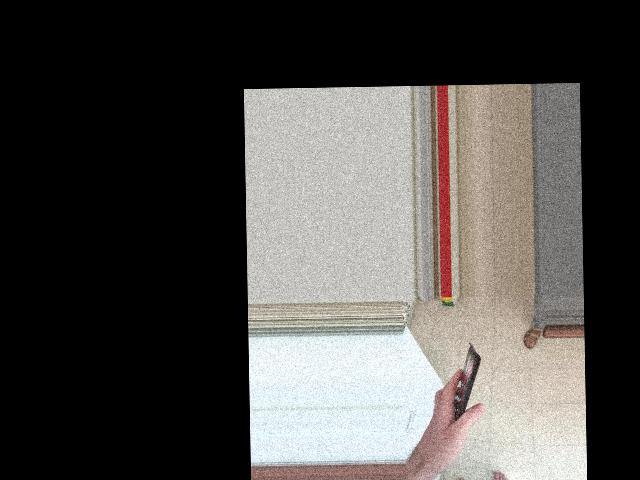chocolate: (431, 340, 485, 455)
